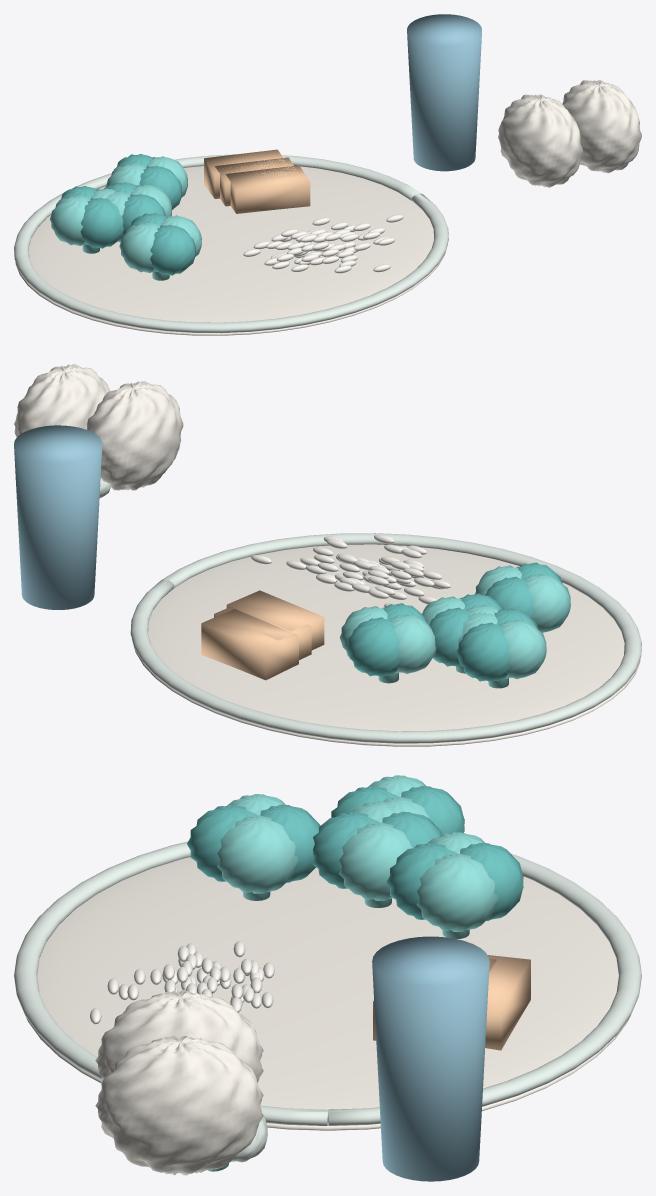
The model's file is nutrition-mood.glb.
3 renders of one model, top to bottom at view 1: azimuth 30°, elevation 25°; view 2: azimuth 150°, elevation 25°; view 3: azimuth 270°, elevation 25°, orthographic. The views are drawn at different scales.
Visible parts, largest first — view 1: static #eee5d3, static #5596b7, static #c7ddd2, static #258985, static #49bdb4, static #f2a066, static #f8f1e4; view 2: static #eee5d3, static #c7ddd2, static #5596b7, static #258985, static #49bdb4, static #f2a066, static #f8f1e4; view 3: static #eee5d3, static #5596b7, static #49bdb4, static #c7ddd2, static #258985, static #f8f1e4, static #f2a066.
Boxes of the visible parts, left/top/right/bottom form: static #eee5d3: left=15, top=80, right=641, bottom=335; static #5596b7: left=407, top=14, right=481, bottom=171; static #c7ddd2: left=14, top=154, right=448, bottom=333; static #258985: left=58, top=154, right=195, bottom=275; static #49bdb4: left=50, top=156, right=201, bottom=280; static #f2a066: left=204, top=149, right=310, bottom=213; static #f8f1e4: left=243, top=214, right=403, bottom=273; static #eee5d3: left=14, top=364, right=640, bottom=746; static #c7ddd2: left=99, top=478, right=641, bottom=743; static #5596b7: left=14, top=425, right=102, bottom=609; static #258985: left=346, top=562, right=562, bottom=681; static #49bdb4: left=339, top=565, right=570, bottom=688; static #f2a066: left=201, top=590, right=324, bottom=680; static #f8f1e4: left=251, top=534, right=450, bottom=607; static #eee5d3: left=26, top=857, right=629, bottom=1175; static #5596b7: left=372, top=936, right=489, bottom=1181; static #49bdb4: left=207, top=775, right=498, bottom=1171; static #c7ddd2: left=14, top=841, right=641, bottom=1162; static #258985: left=187, top=786, right=523, bottom=920; static #f8f1e4: left=90, top=941, right=274, bottom=1024; static #f2a066: left=373, top=955, right=530, bottom=1050.
Bounding box in the file's own units: 0.469 × 0.1185 × 0.299.
